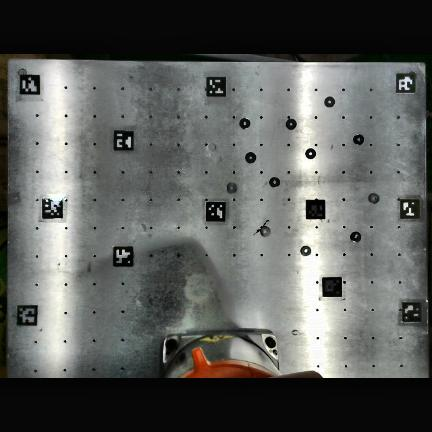marker: (17, 304, 38, 325), (400, 198, 420, 219), (42, 198, 62, 218), (113, 246, 133, 266), (114, 130, 134, 150), (206, 75, 226, 95), (403, 300, 422, 321), (206, 201, 225, 222), (20, 75, 40, 94), (396, 73, 415, 93), (306, 200, 325, 219), (323, 278, 342, 296)
washer: (368, 192, 380, 203), (246, 152, 256, 163), (354, 134, 364, 144), (270, 177, 280, 187), (351, 232, 361, 242), (260, 227, 271, 236), (227, 183, 236, 193), (240, 119, 250, 128), (287, 119, 296, 129), (325, 97, 334, 107), (301, 246, 311, 255), (306, 149, 315, 158)
